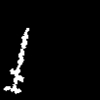double_crochet: (4, 28, 28, 92)
